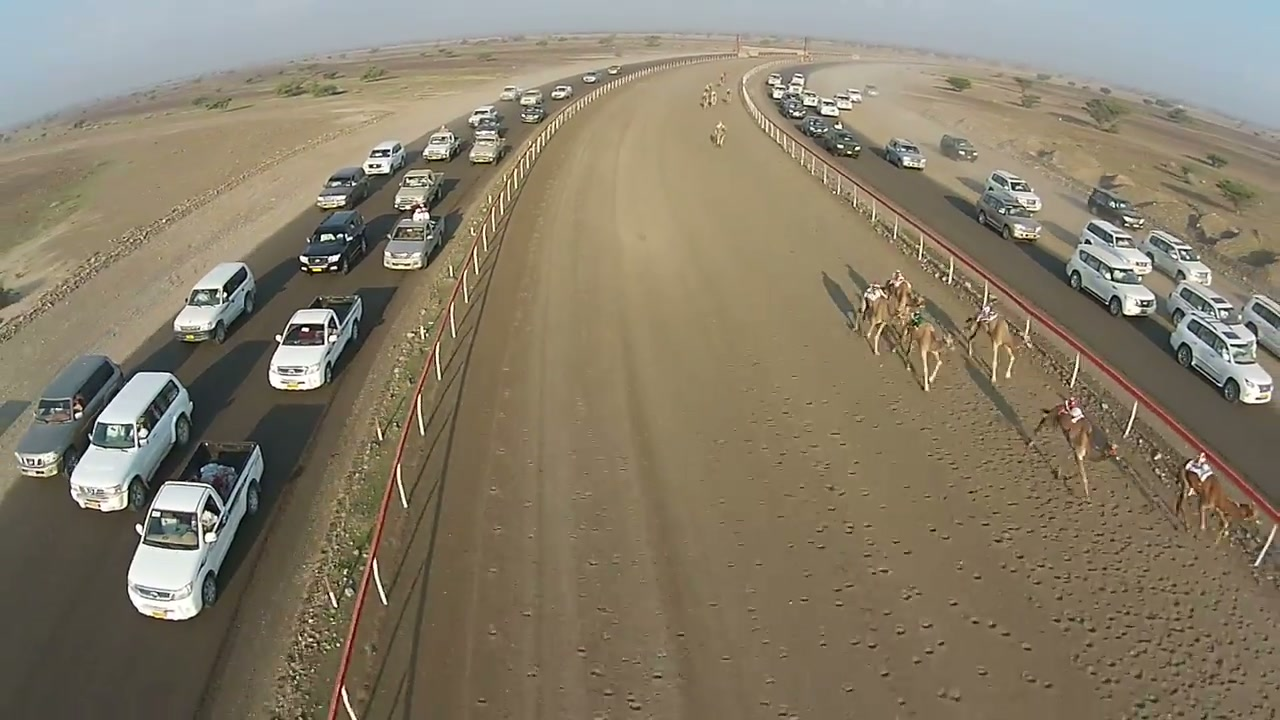animal_footprint: (833, 349, 1268, 713)
